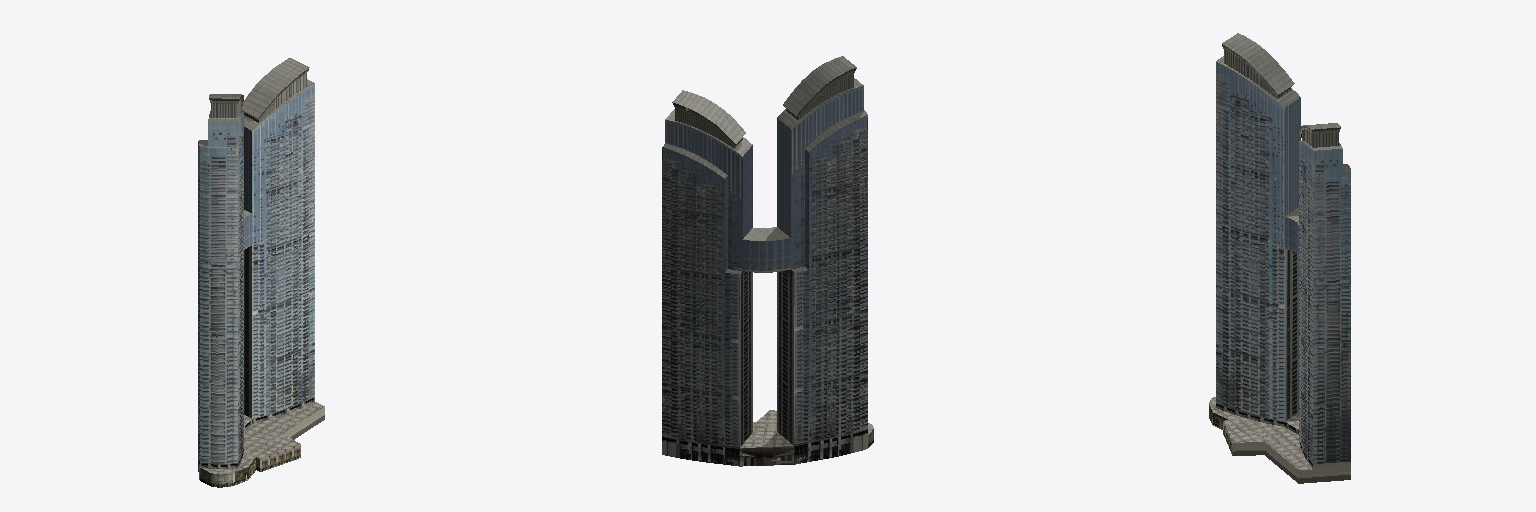
3 renders of one model, left to right at view 1: azimuth 30°, elevation 25°; view 2: azimuth 150°, elevation 25°; view 3: azimuth 270°, elevation 25°, orthographic.
Visible parts, largest first — view 1: Material__2675; view 2: Material__2675; view 3: Material__2675.
Boxes of the visible parts, box(x1,y1,x2,y2) form: Material__2675: box(198, 58, 324, 487); Material__2675: box(662, 56, 873, 466); Material__2675: box(1209, 33, 1350, 483).
Size of the model in its own units: 126 by 292 by 99.65.
Materials: 1 (1 with a texture image).